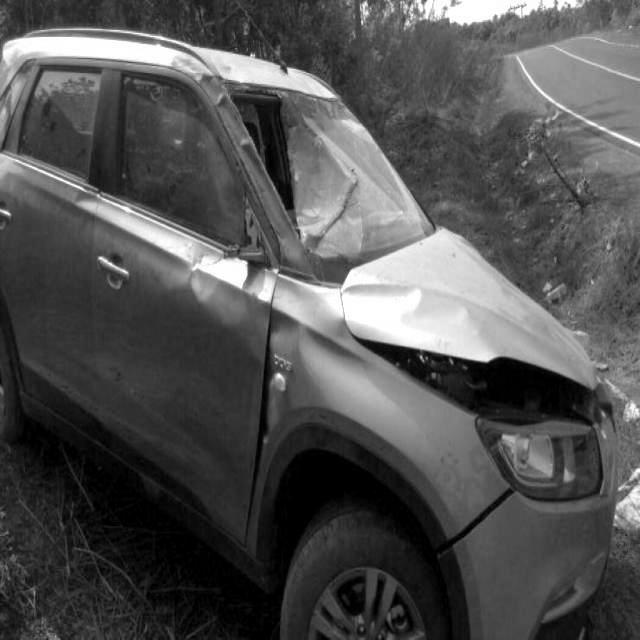Front-windscreen-damage: (240, 85, 439, 250)
bonnet-dent: (367, 247, 608, 436)
doorouter-dent: (177, 241, 238, 313)
fender-dent: (267, 284, 362, 429)
roof-dent: (135, 40, 336, 91)
